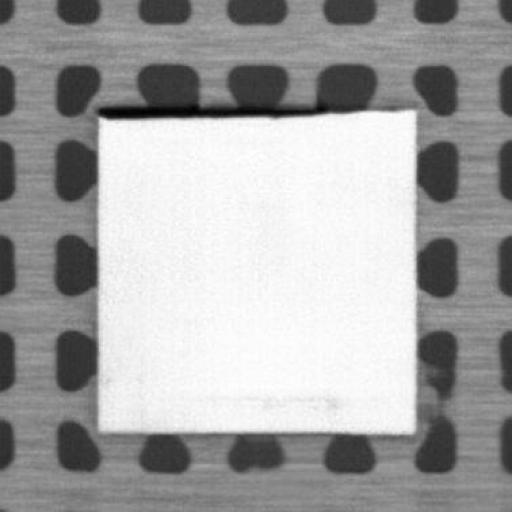DIE_BROKEN: (92, 100, 355, 121)
